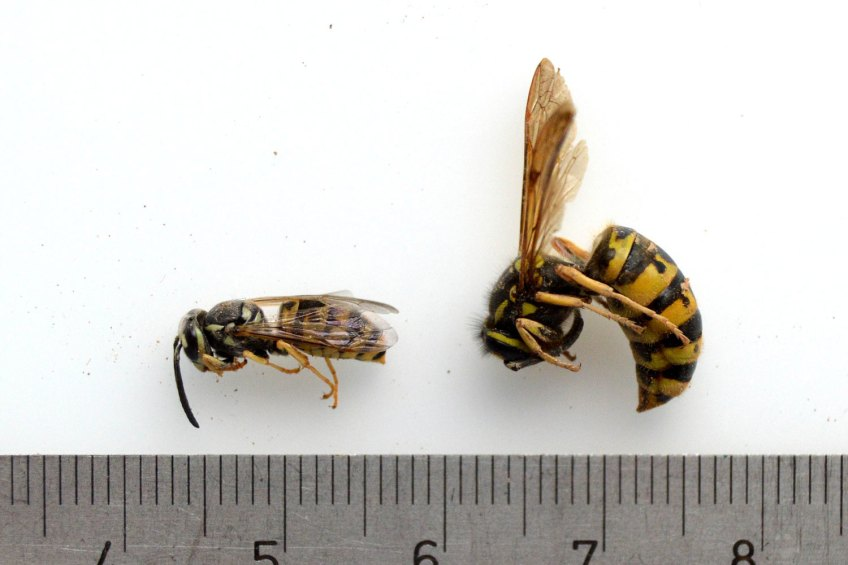chax: (457, 47, 722, 437), (145, 259, 422, 427)
